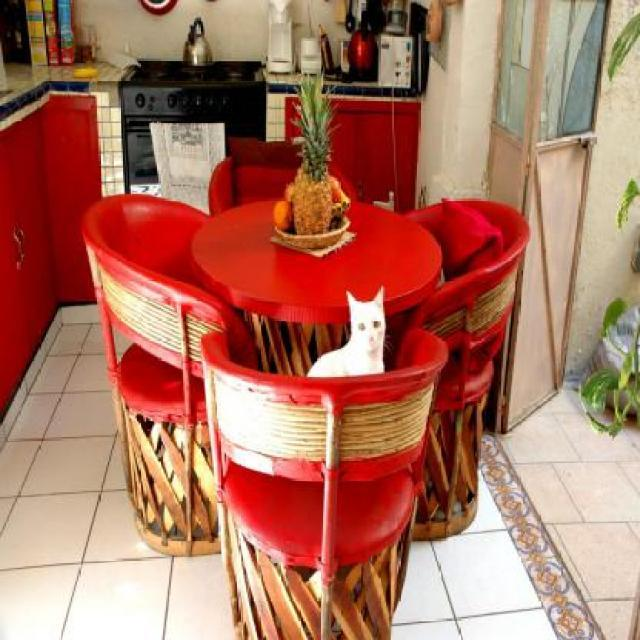Pineapple: (278, 72, 342, 252)
